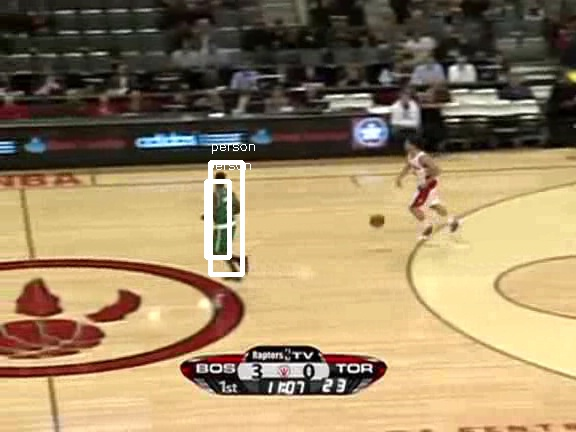person: (208, 180, 242, 261), (207, 180, 241, 261), (209, 180, 243, 261), (208, 179, 242, 260), (208, 181, 242, 262)
target_negative: (394, 65, 490, 272), (42, 303, 562, 328), (516, 64, 544, 360), (484, 5, 549, 62), (283, 360, 357, 393), (118, 319, 468, 321)
